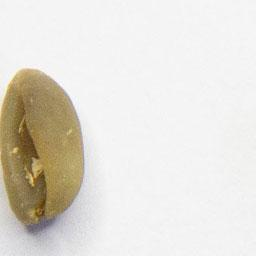peaberry: (1, 66, 88, 230)
